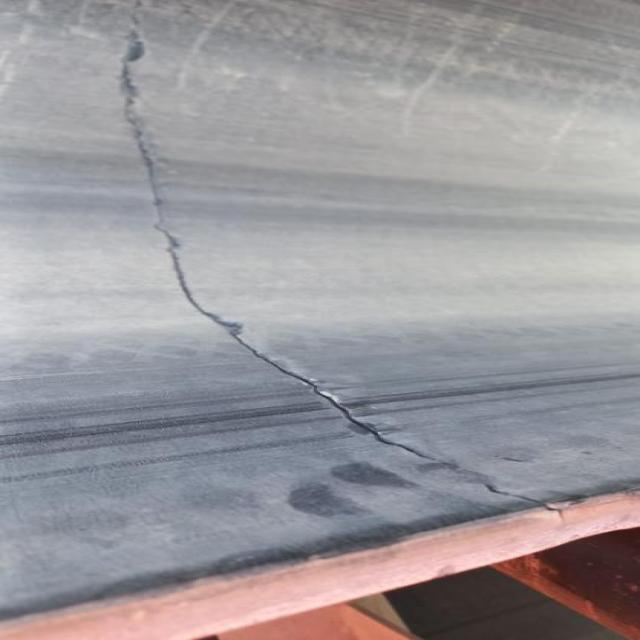Tear: (112, 26, 568, 520)
